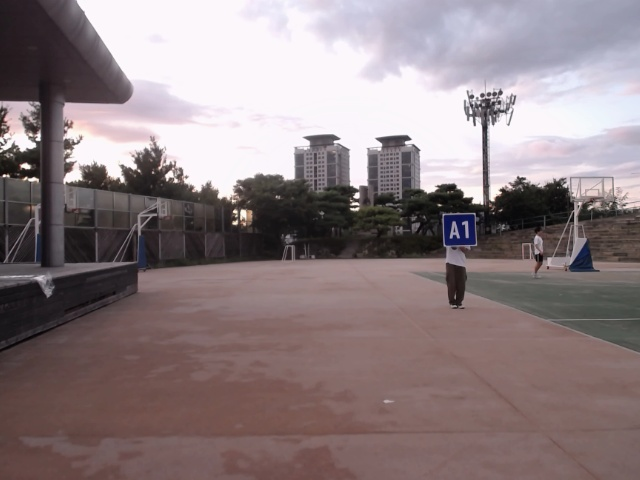delivery_a1: (442, 213, 476, 247)
